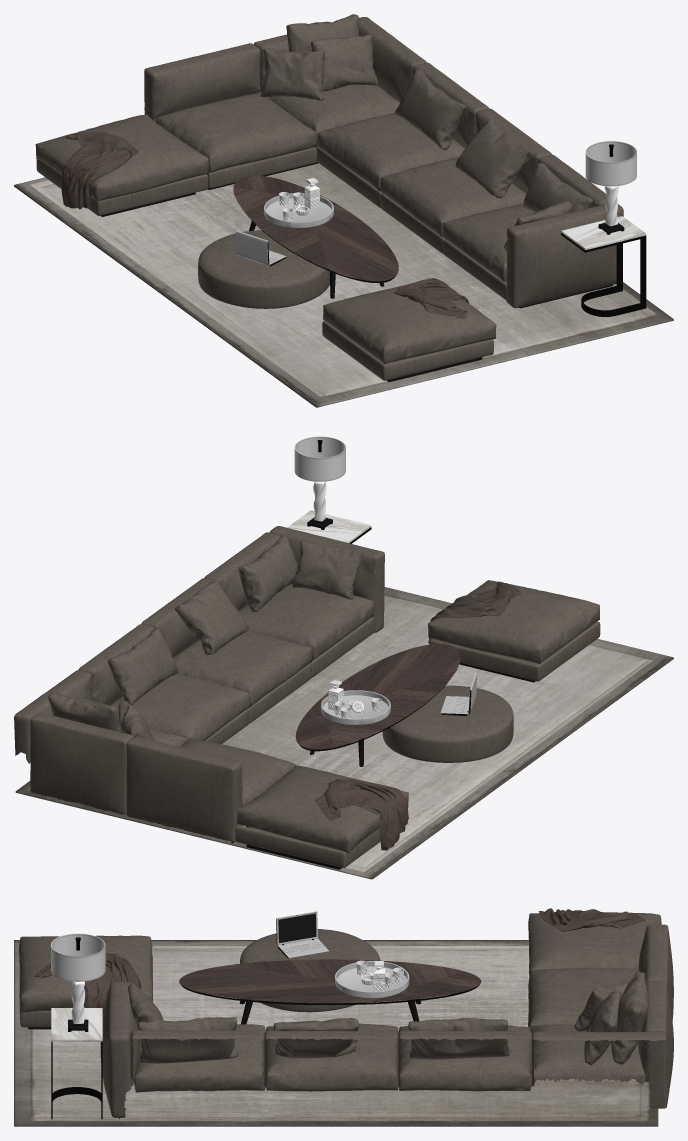
File: Sofa01.gltf
3 views of the same model, one above another, from view 1: azimuth 30°, elevation 25°; view 2: azimuth 150°, elevation 25°; view 3: azimuth 270°, elevation 25° (orthographic). The views are drawn at different scales.
Parts seen in each view (by area): view 1: Sofa01; view 2: Sofa01; view 3: Sofa01.
Boxes of the visible parts, <box> form: Sofa01: <box>14,14,673,407</box>; Sofa01: <box>14,436,673,879</box>; Sofa01: <box>14,908,673,1126</box>.
Size of the model in its own units: 2.61 by 1.15 by 3.92.
13 materials, 5 textured.
